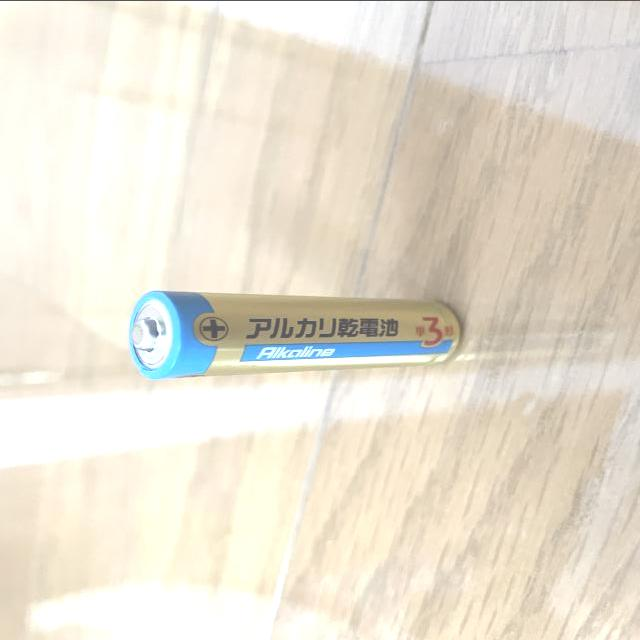AAA: (119, 283, 466, 379)
